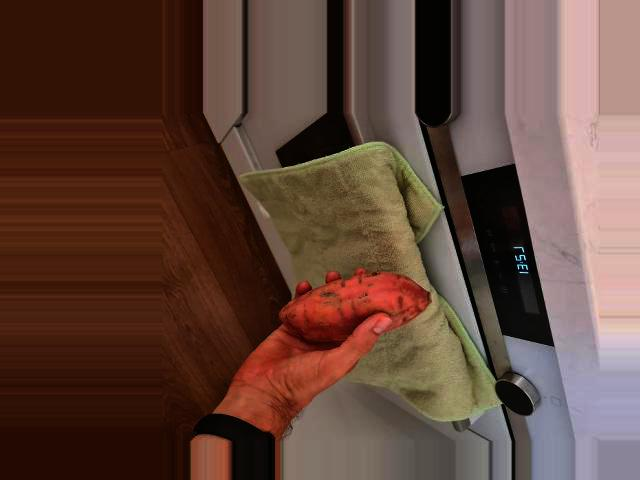sweet_potato: (274, 274, 430, 341)
